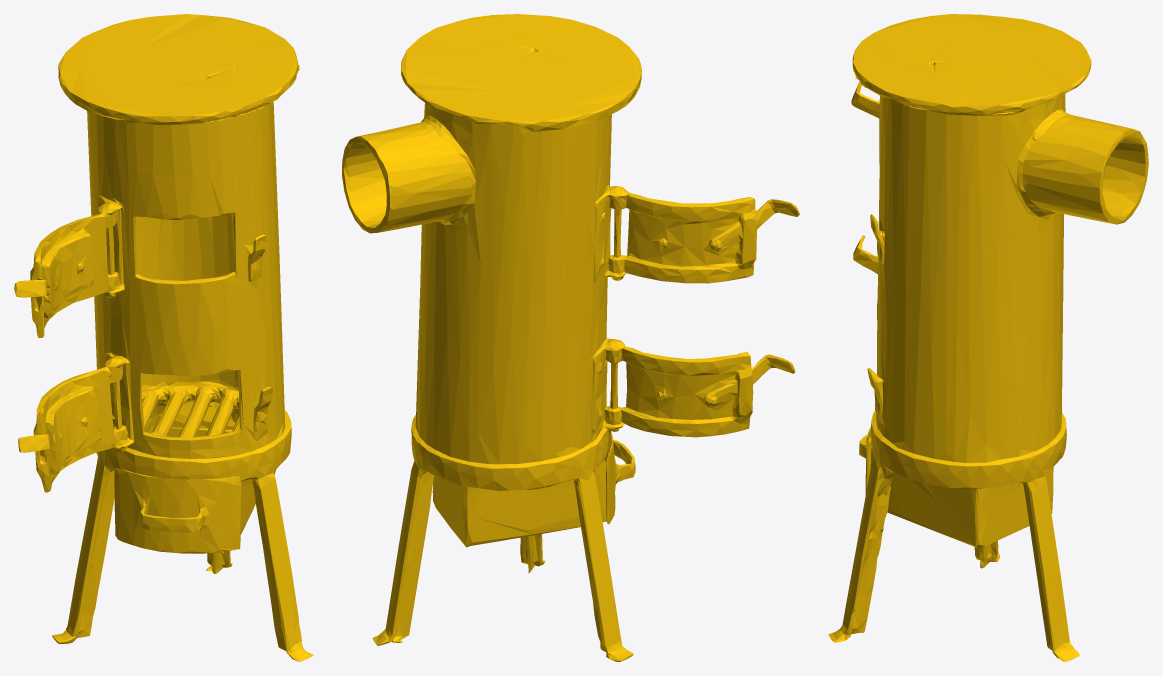
Rendered from Ofen_11k_solid.glb.
3 views of the same model, side by side, from view 1: azimuth 30°, elevation 25°; view 2: azimuth 150°, elevation 25°; view 3: azimuth 270°, elevation 25° (orthographic).
Visible parts, largest first — view 1: Ofen_Korpus_8k_solid, Ofen_Deckel_2k_solid, Ofen_Schublade_1k_solid; view 2: Ofen_Korpus_8k_solid, Ofen_Deckel_2k_solid, Ofen_Schublade_1k_solid; view 3: Ofen_Korpus_8k_solid, Ofen_Deckel_2k_solid.
Boxes of the visible parts, box(x1,y1,x2,y2) form: Ofen_Korpus_8k_solid: box(14, 102, 313, 661); Ofen_Deckel_2k_solid: box(58, 14, 299, 124); Ofen_Schublade_1k_solid: box(114, 426, 241, 553); Ofen_Korpus_8k_solid: box(342, 102, 799, 661); Ofen_Deckel_2k_solid: box(401, 14, 641, 131); Ofen_Schublade_1k_solid: box(605, 430, 635, 524); Ofen_Korpus_8k_solid: box(828, 81, 1148, 661); Ofen_Deckel_2k_solid: box(852, 14, 1091, 115).
Size of the model in its own units: 0.4574 by 0.7355 by 0.3836.
